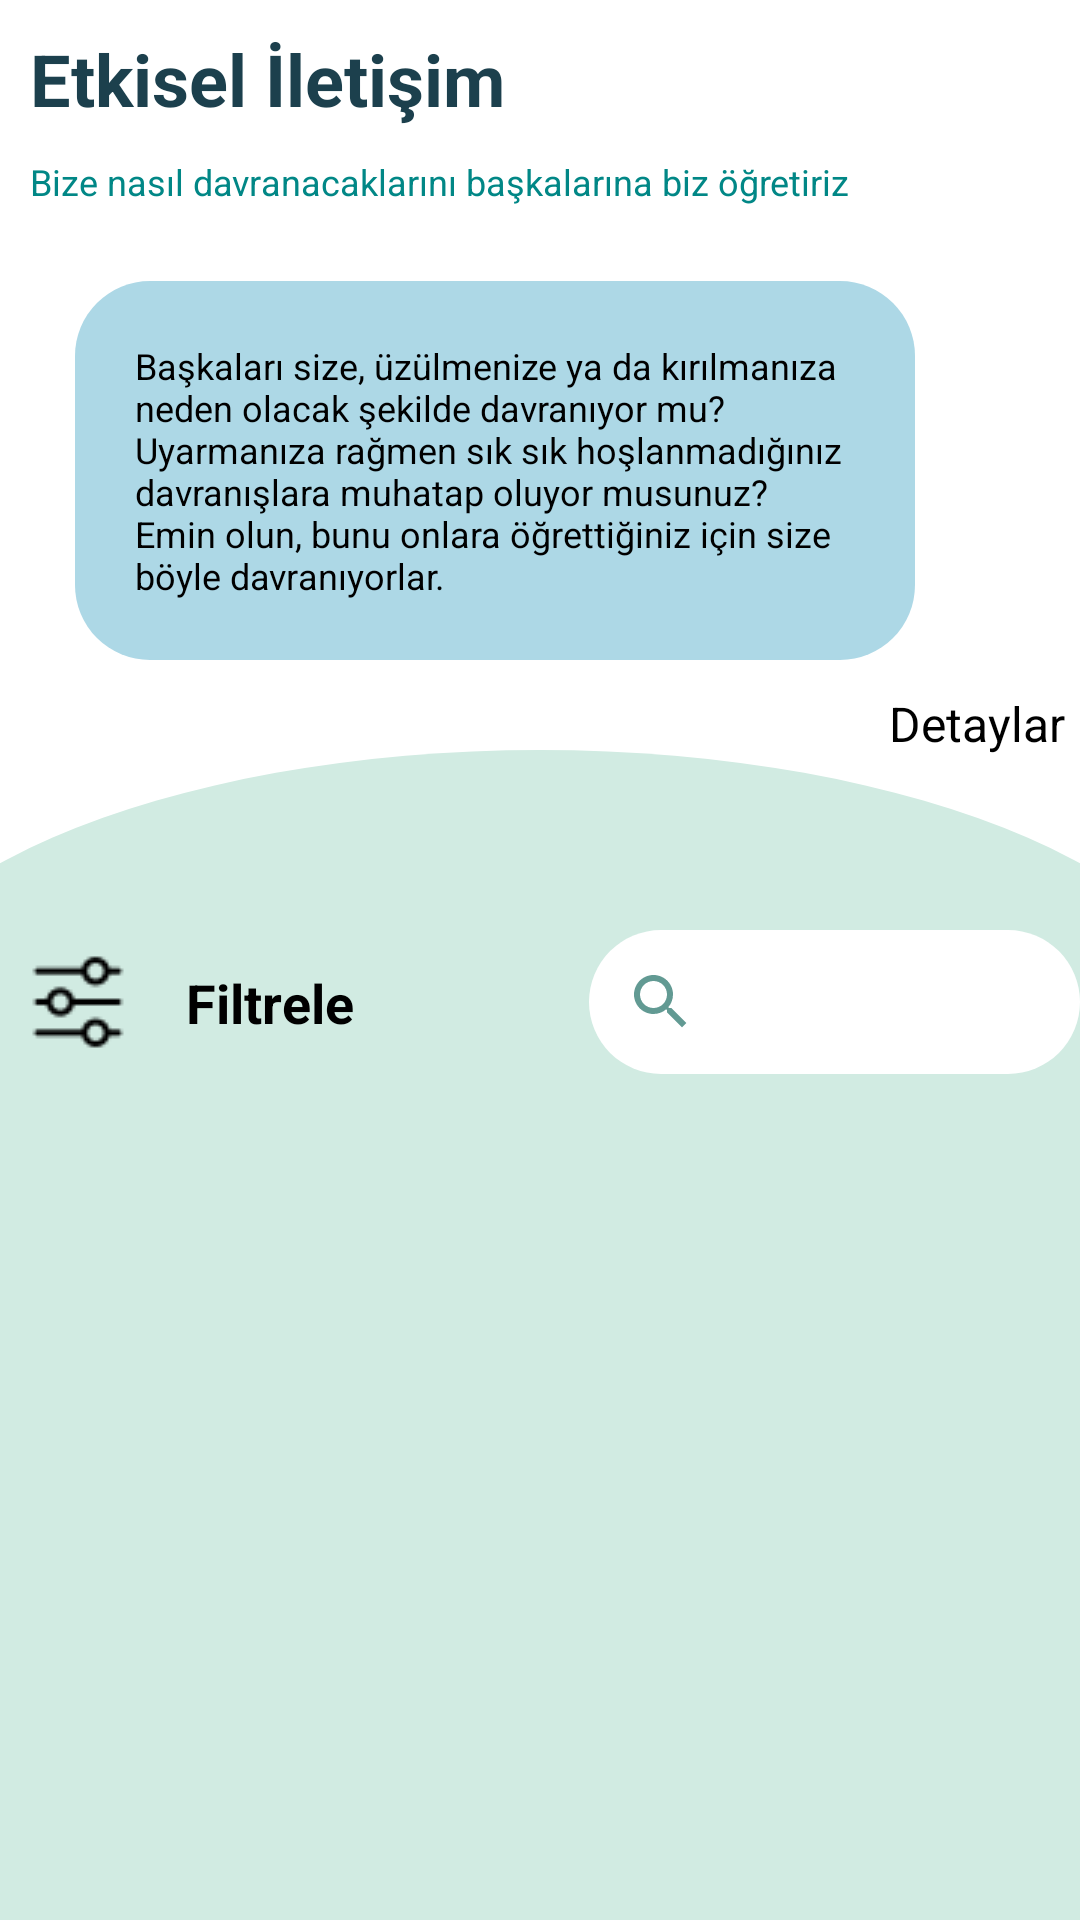

Point at icon controls on the screen. Image size 1080px×1920px, points as [x,y].
filter: [78,1002]
